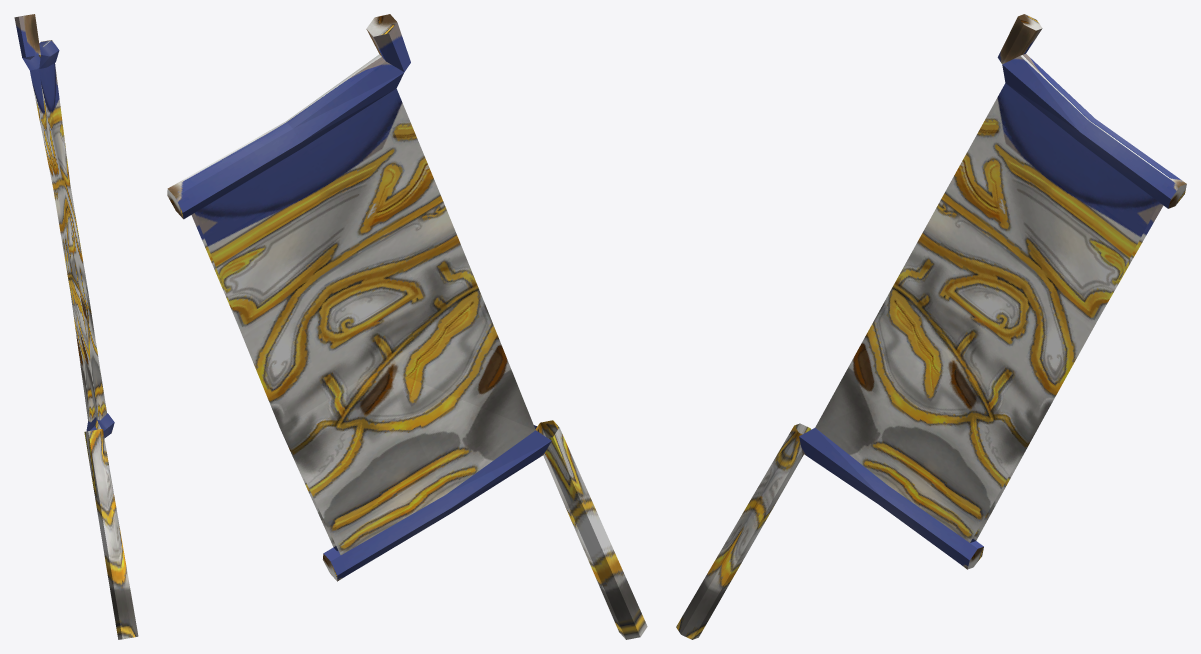
The model's file is Whale_championFlag.obj.
3 views of the same model, side by side, from view 1: azimuth 30°, elevation 25°; view 2: azimuth 150°, elevation 25°; view 3: azimuth 270°, elevation 25° (orthographic). The views are drawn at different scales.
Parts seen in each view (by area): view 1: Whale_championFlag_tri; view 2: Whale_championFlag_tri; view 3: Whale_championFlag_tri.
Boxes of the visible parts, x1,y1,x2,y2 form: Whale_championFlag_tri: (14, 14, 138, 639); Whale_championFlag_tri: (167, 14, 647, 639); Whale_championFlag_tri: (676, 14, 1186, 639).
Size of the model in its own units: 0.5153 by 1.9 by 1.37.
Materials: 1 (1 with a texture image).
